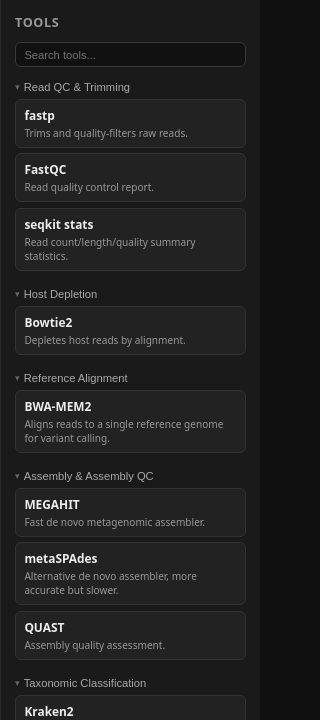
Test: NodePalette › a collapsed category still shows its tools once a search matches them (search overrides collapse)
The image size is (320, 720).
Click the button "▾ Read QC & Trimming": coordinates (130, 87) [15, 81, 246, 93]
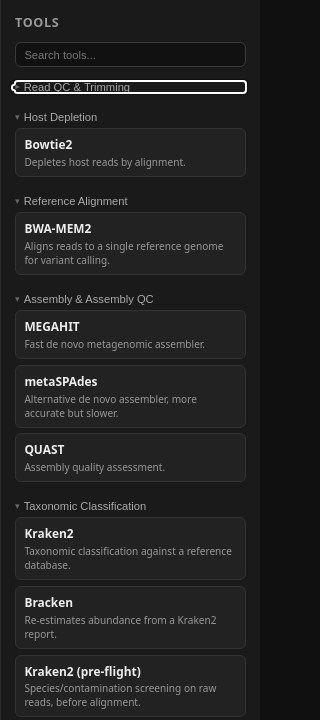
Expected: the button "fastp" is gone
In the search field with placeholder "Search tools...": coordinates (130, 55) [15, 42, 246, 67], type "fastp"
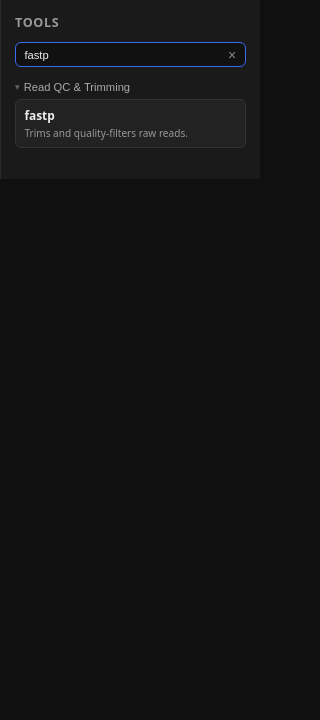
Expected: the text "fastp" is shown, [24, 107, 55, 123]
